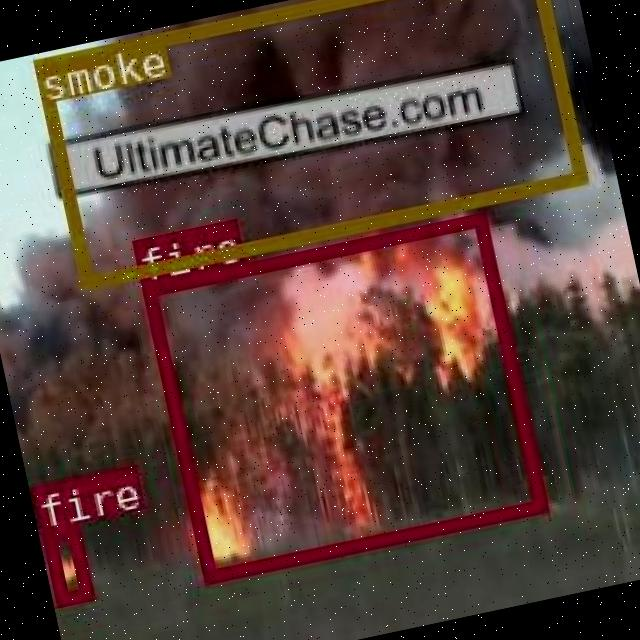fire: (140, 211, 546, 582), (39, 522, 91, 604)
smoke: (29, 0, 585, 289)
